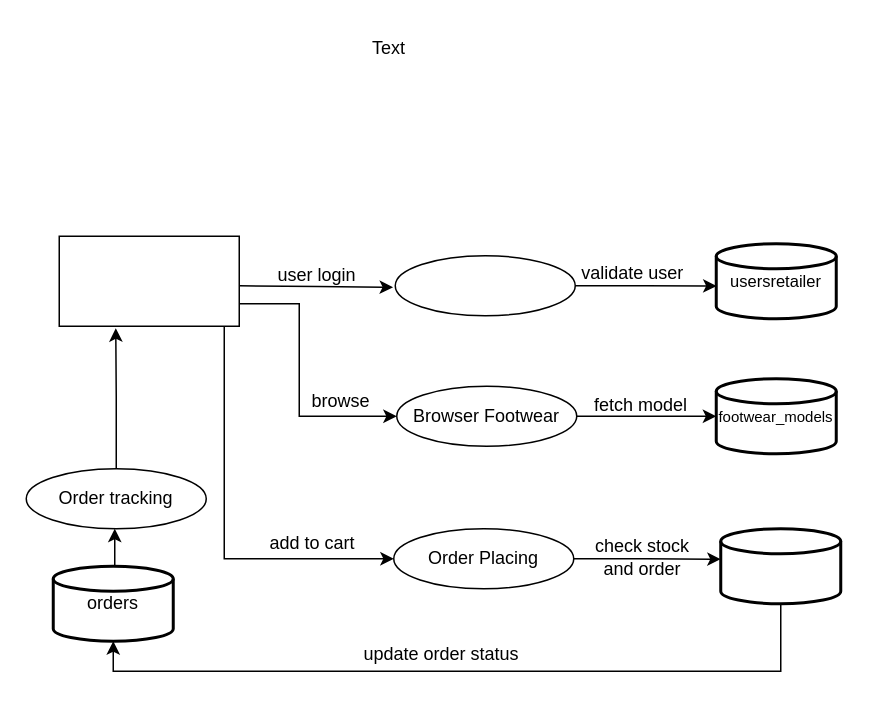
The diagram is 869 pixels wide and 710 high, and some of its shapes have lost their labels. Each missing label, with the centre of its shape:
footwear_stock: (780,565)
User: (148,280)
User Authentication: (484,285)
